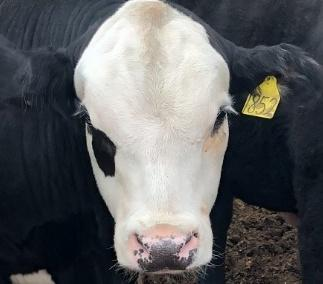muzzles: (112, 222, 218, 278)
